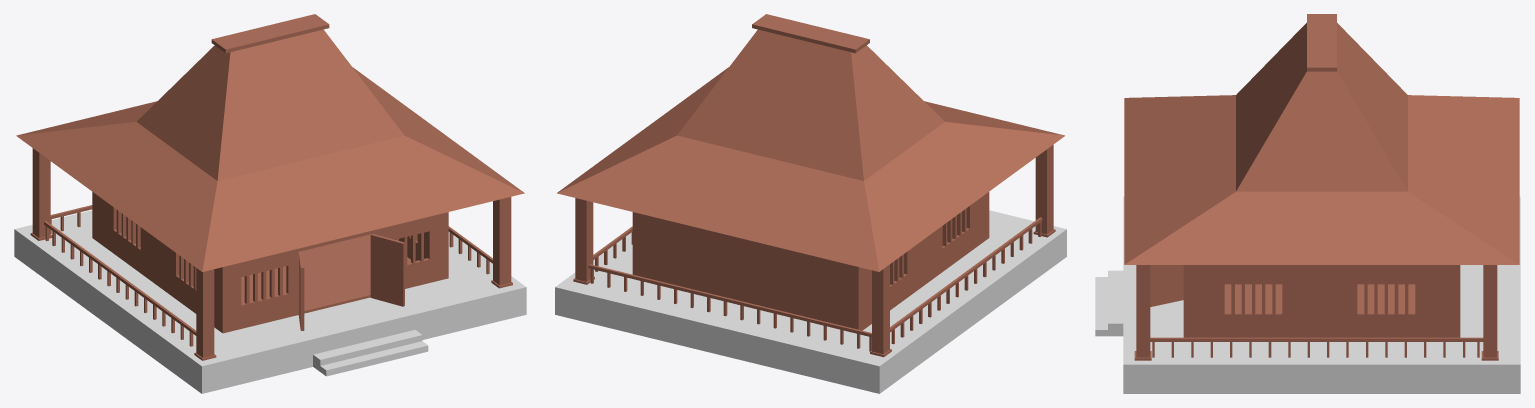
Rendered from Rumah-4.fbx.
3 views of the same model, side by side, from view 1: azimuth 30°, elevation 25°; view 2: azimuth 150°, elevation 25°; view 3: azimuth 270°, elevation 25° (orthographic). The views are drawn at different scales.
Parts seen in each view (by area): view 1: Base-Rumah, Alas, Pintu-Kanan, Pagar, Tiang.001, Tiang, Tiang.003, Tangga-2, Tangga-1, Pagar.001, Pintu-Kiri; view 2: Base-Rumah, Alas, Pagar.002, Pagar, Tiang.003, Tiang.001, Tiang.002, Pagar.001; view 3: Base-Rumah, Alas, Pagar.001, Tiang, Tiang.002, Pintu-Kanan, Tangga-2, Tangga-1.
Boxes of the visible parts, x1,y1,x2,y2 form: Base-Rumah: (16,14,524,333); Alas: (14,210,526,393); Pintu-Kanan: (370,234,404,306); Pagar: (44,221,196,346); Tiang.001: (194,268,216,360); Tiang: (491,197,512,288); Tiang.003: (30,148,52,240); Tangga-2: (313,330,422,365); Tangga-1: (313,341,428,376); Pagar.001: (448,226,492,274); Pintu-Kiri: (298,251,304,330); Base-Rumah: (557,14,1064,330); Alas: (555,210,1066,393); Pagar.002: (588,264,871,351); Pagar: (890,217,1042,344); Tiang.003: (870,264,891,357); Tiang.001: (1033,144,1055,237); Tiang.002: (573,198,594,284); Pagar.001: (593,226,632,271); Base-Rumah: (1124,14,1519,337); Alas: (1123,196,1520,393); Pagar.001: (1150,337,1483,357); Tiang: (1134,265,1151,360); Tiang.002: (1481,265,1498,360); Pintu-Kanan: (1150,265,1183,306); Tangga-2: (1108,270,1123,329); Tangga-1: (1095,277,1123,336).
Size of the model in its own units: 3805 by 2845 by 4073.
